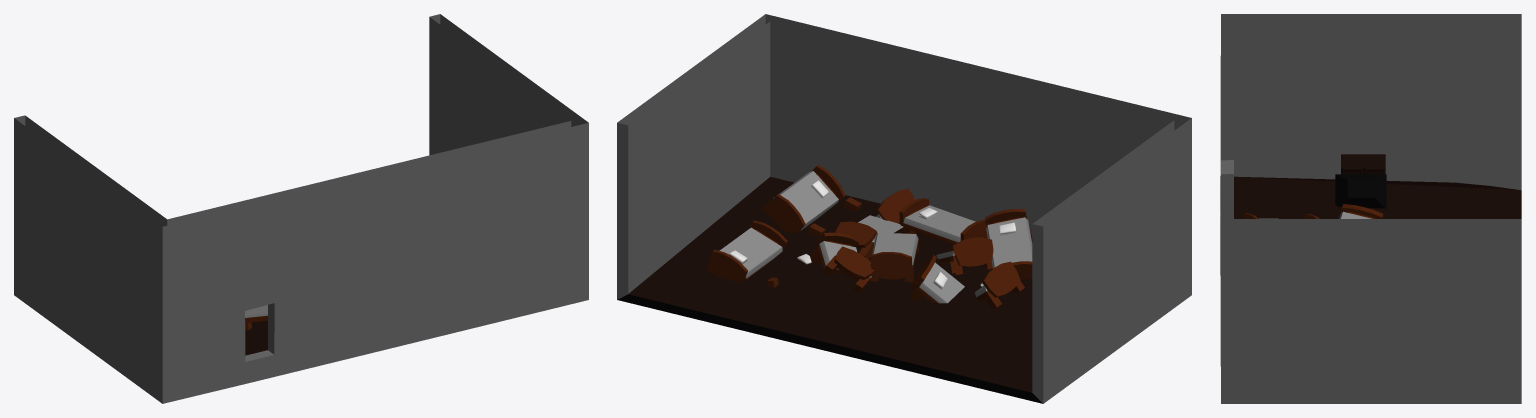
Rendered from hospital3.FBX.
The picture shows the model from 3 angles, left to right: view 1: azimuth 30°, elevation 25°; view 2: azimuth 150°, elevation 25°; view 3: azimuth 270°, elevation 25°; orthographic projection.
Parts seen in each view (by area): view 1: Box008; view 2: Box008; view 3: Box008.
Boxes of the visible parts, x1,y1,x2,y2 form: Box008: (14,14,588,403); Box008: (617,14,1191,403); Box008: (1220,14,1521,403).
Size of the model in its own units: 1197 by 476 by 724.
